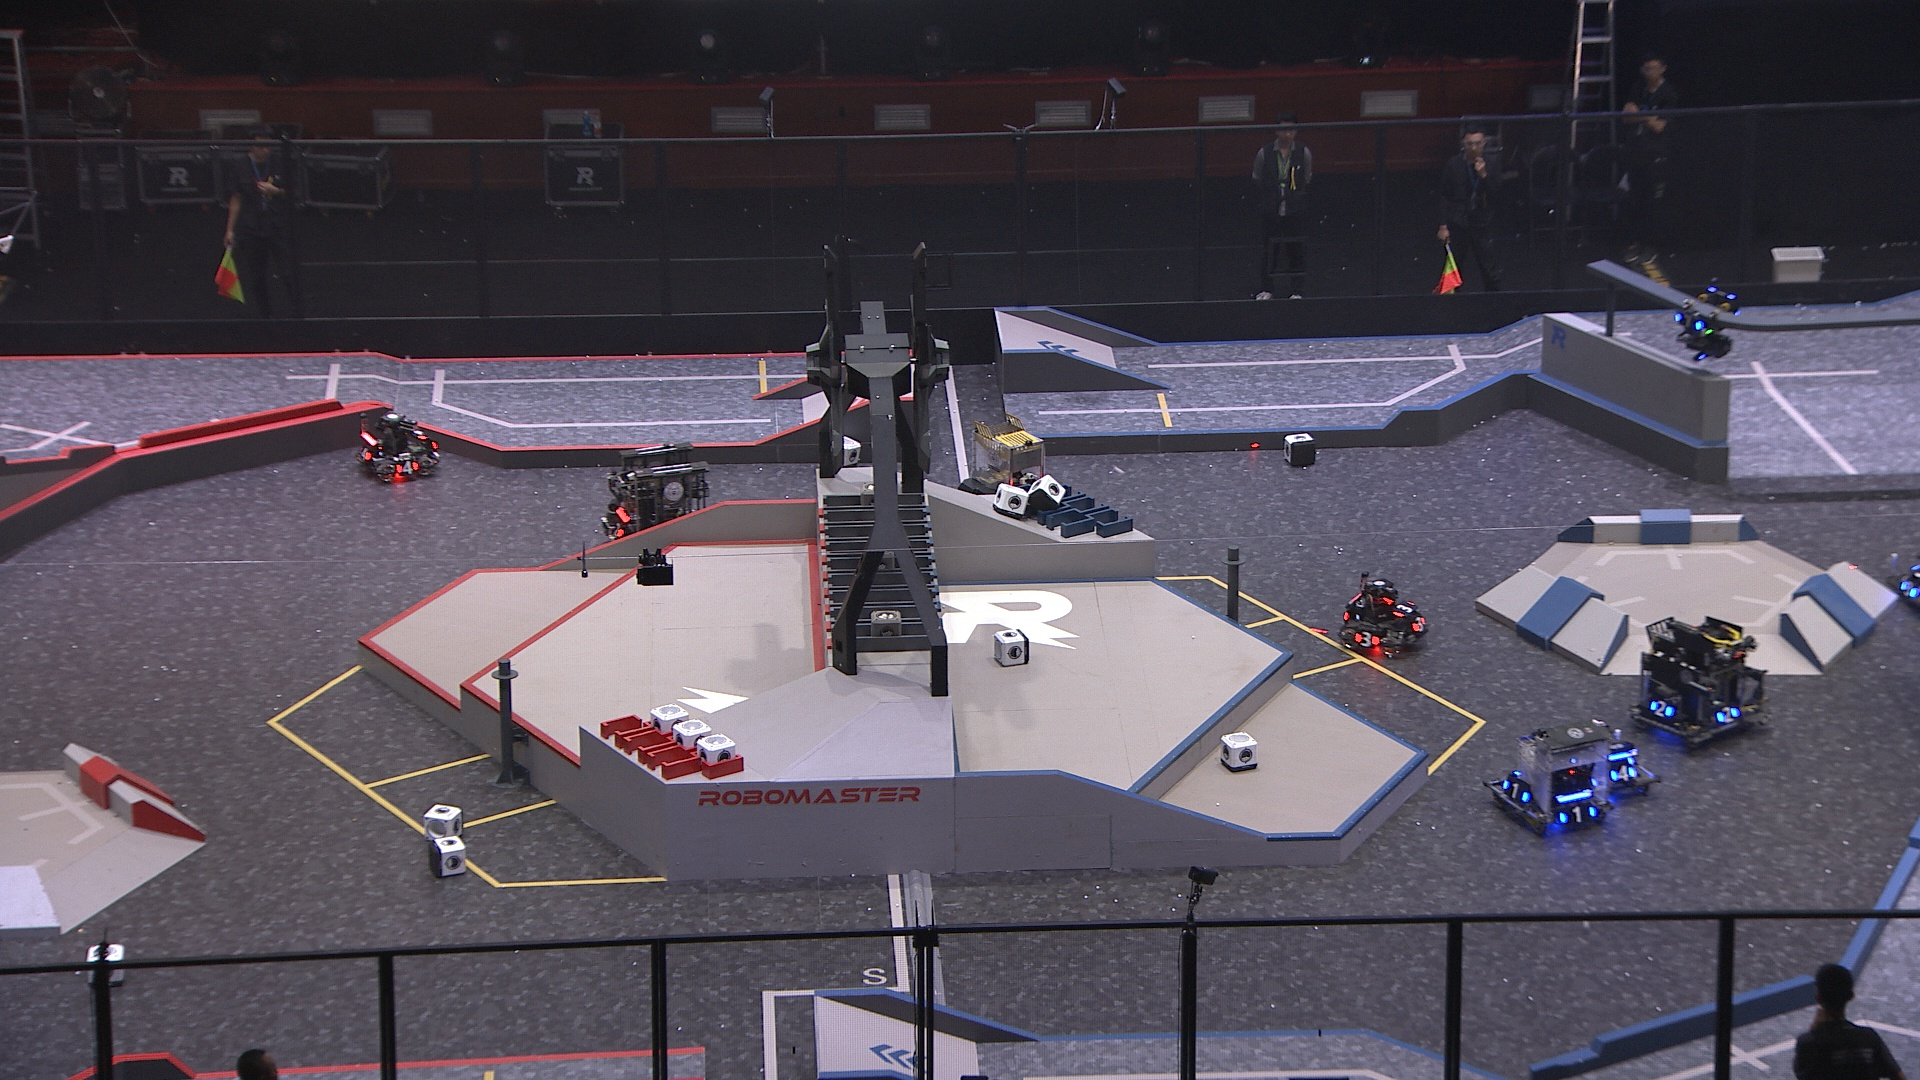armor: (1501, 778, 1531, 806), (1560, 806, 1596, 827), (1673, 306, 1700, 330), (1352, 629, 1381, 647), (1650, 698, 1673, 717), (1717, 704, 1741, 723), (1610, 766, 1636, 782), (1898, 578, 1917, 599), (396, 460, 419, 476), (413, 422, 427, 442), (1394, 603, 1414, 617), (357, 447, 372, 465), (1411, 615, 1425, 633), (611, 520, 624, 538)
car: (1629, 613, 1768, 749), (1484, 716, 1614, 839), (600, 442, 713, 562), (956, 423, 1050, 522), (1338, 571, 1432, 655), (1578, 711, 1660, 803), (353, 406, 442, 484), (1887, 534, 1920, 616)
watcher: (1673, 286, 1745, 360)
